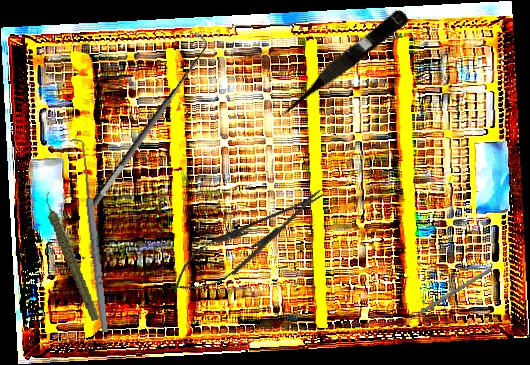Handpiece: (43, 187, 101, 325)
Hook Surgical: (77, 30, 217, 209), (69, 137, 112, 334)
Micro Scissor: (271, 4, 411, 123)
Needle Holder: (162, 175, 334, 308)
Pusher: (393, 267, 493, 331)
